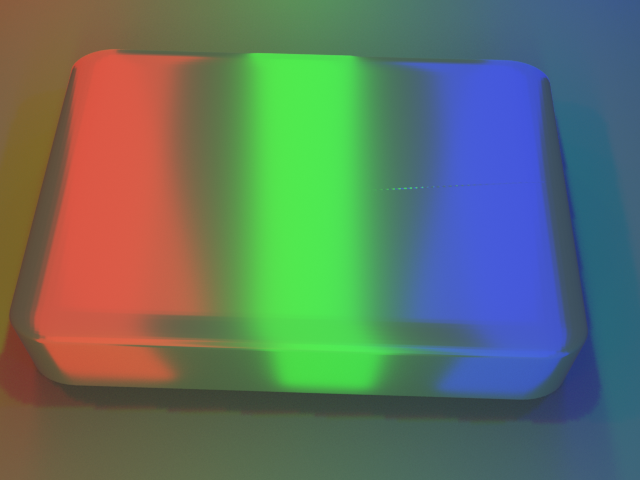scratch: (249, 61, 488, 319)
